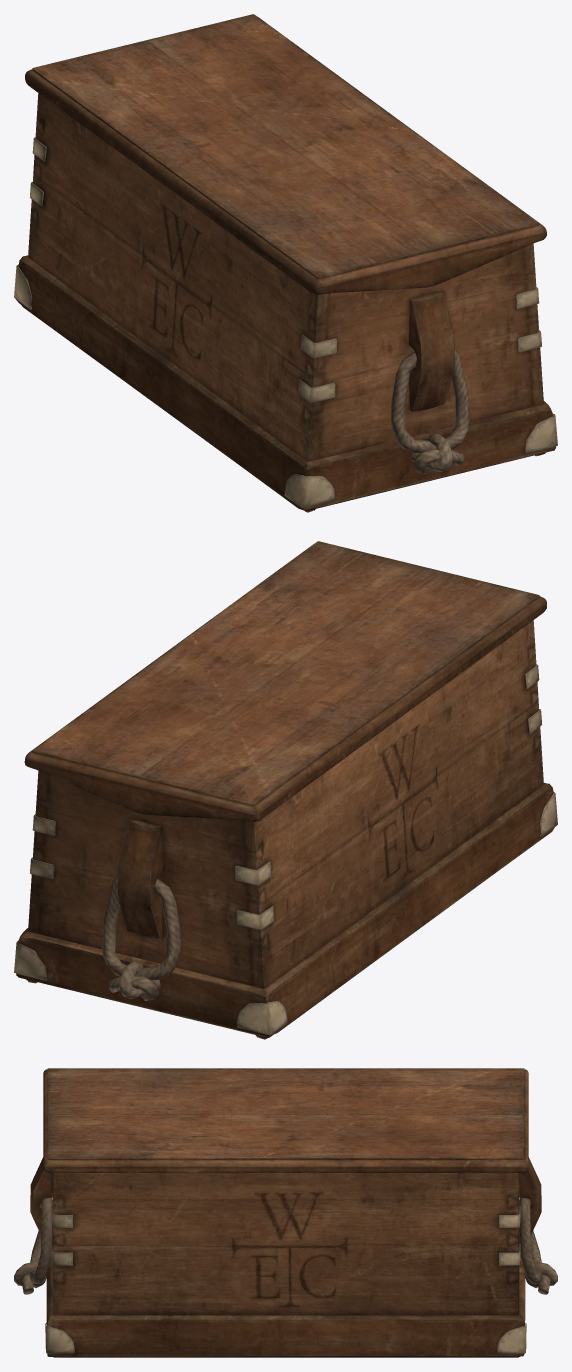
The model's file is wooden_crate_02.glb.
The picture shows the model from 3 angles, top to bottom: view 1: azimuth 30°, elevation 25°; view 2: azimuth 150°, elevation 25°; view 3: azimuth 270°, elevation 25°; orthographic projection. The views are drawn at different scales.
Parts seen in each view (by area): view 1: wooden_crate_02_crate, wooden_crate_02_lid; view 2: wooden_crate_02_crate, wooden_crate_02_lid; view 3: wooden_crate_02_crate, wooden_crate_02_lid.
Part boxes in pixels (x1,y1,x2,y2): wooden_crate_02_crate: [14, 93, 557, 512]; wooden_crate_02_lid: [25, 14, 546, 295]; wooden_crate_02_crate: [14, 620, 557, 1039]; wooden_crate_02_lid: [24, 541, 546, 821]; wooden_crate_02_crate: [14, 1157, 557, 1357]; wooden_crate_02_lid: [43, 1068, 528, 1172].
Bounding box in the file's own units: 0.529 × 0.4642 × 1.17.
Materials: 1 (1 with a texture image).
